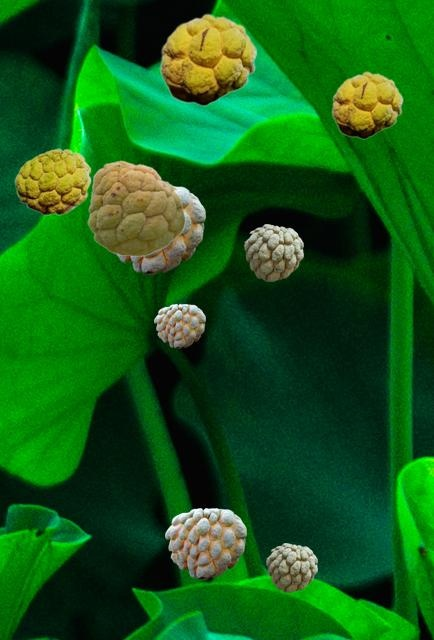atis: (87, 160, 184, 255), (159, 13, 256, 105), (114, 186, 204, 273), (165, 508, 245, 578), (14, 148, 90, 214), (331, 71, 402, 138), (244, 224, 302, 280), (266, 543, 316, 591), (154, 304, 204, 347)
